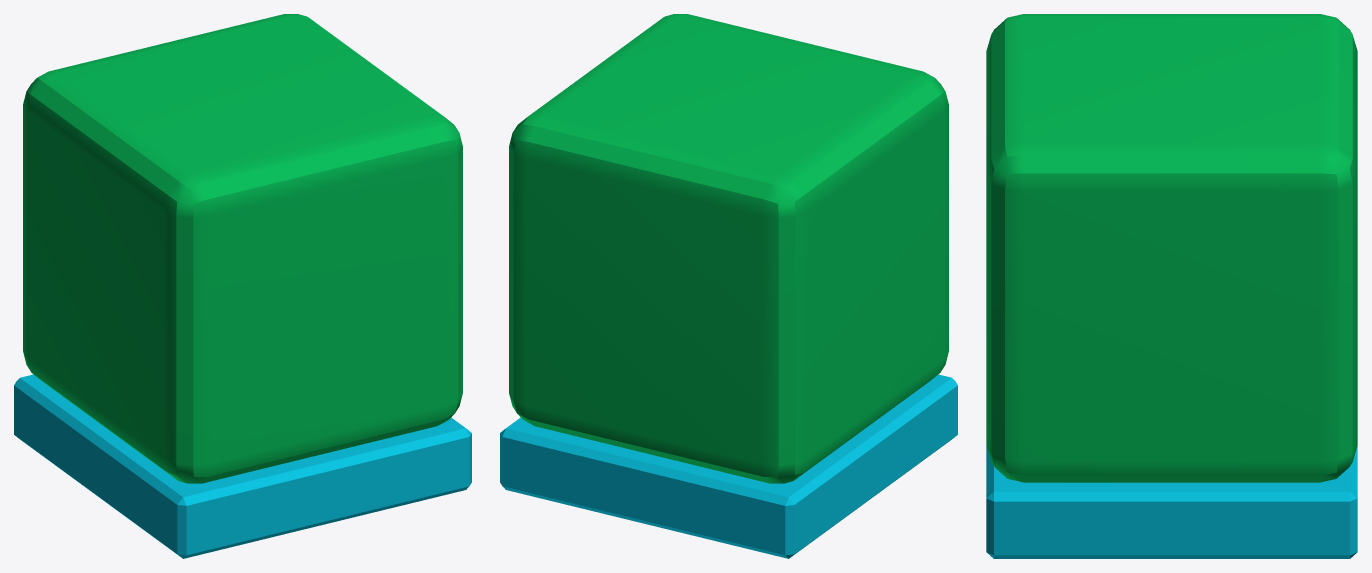
The model's file is Wall2.fbx.
3 views of the same model, side by side, from view 1: azimuth 30°, elevation 25°; view 2: azimuth 150°, elevation 25°; view 3: azimuth 270°, elevation 25° (orthographic). The views are drawn at different scales.
Parts seen in each view (by area): view 1: pCube2, pCube1; view 2: pCube2, pCube1; view 3: pCube2, pCube1.
Part boxes in pixels (x1=…): pCube2: x1=23, y1=14, x2=462, y2=483; pCube1: x1=14, y1=374, x2=471, y2=558; pCube2: x1=509, y1=14, x2=948, y2=483; pCube1: x1=500, y1=374, x2=957, y2=558; pCube2: x1=986, y1=14, x2=1357, y2=482; pCube1: x1=986, y1=446, x2=1357, y2=558.
Bounding box in the file's own units: 1 × 1.2 × 1.
